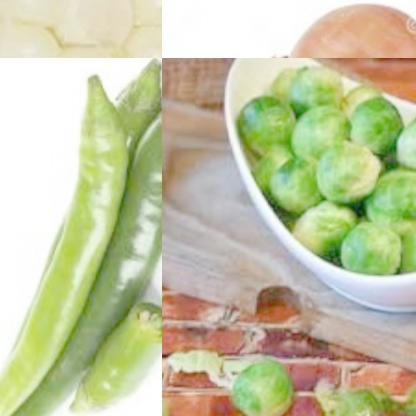brus capusta: (245, 58, 416, 274), (203, 353, 333, 416)
hot pepper: (0, 69, 162, 416), (0, 59, 124, 416), (66, 295, 162, 416), (94, 58, 162, 168)
onion: (0, 0, 162, 58), (271, 0, 416, 58)
